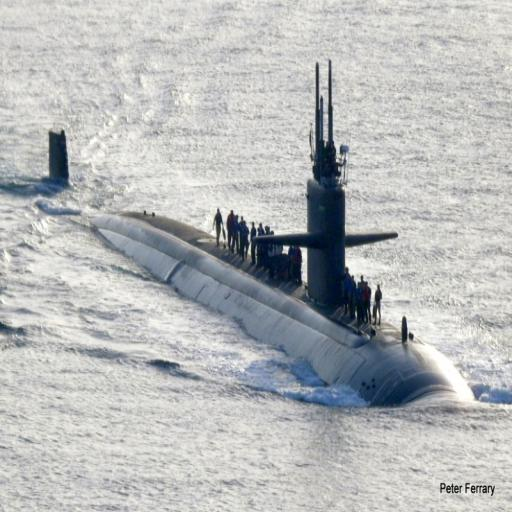submarine: (50, 62, 479, 405)
